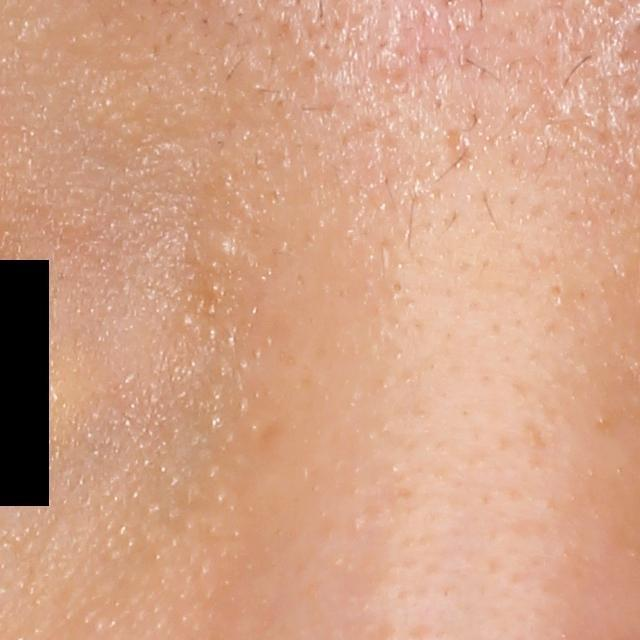atrophic_scar: (441, 124, 490, 174)
